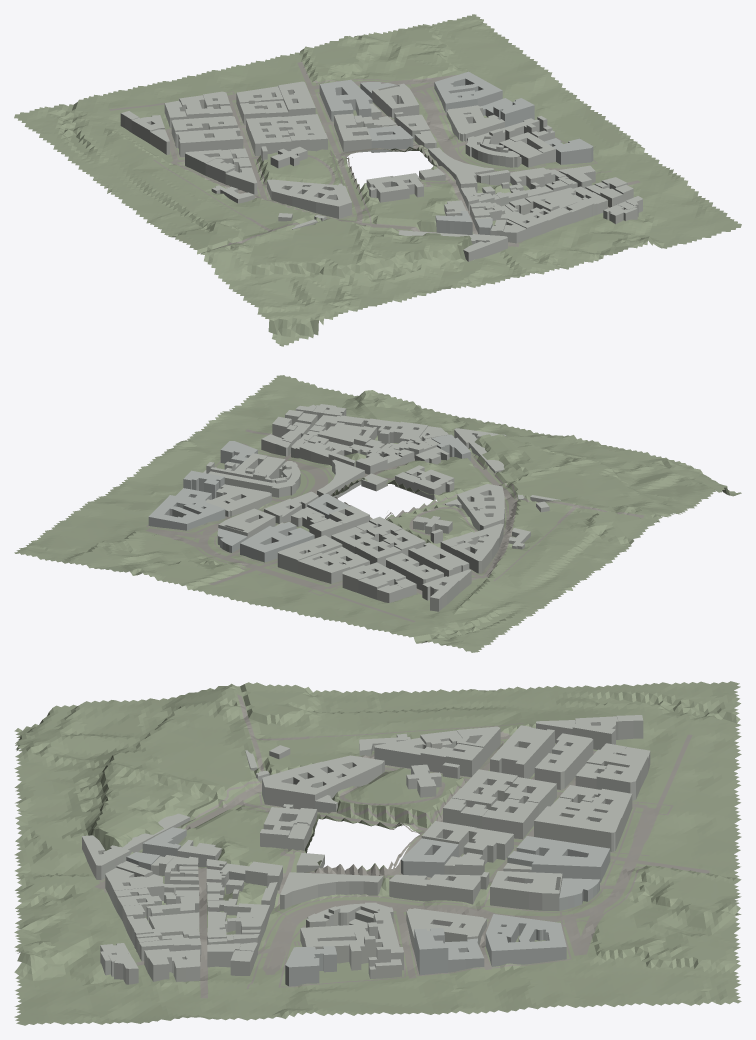
The picture shows the model from 3 angles, top to bottom: view 1: azimuth 30°, elevation 25°; view 2: azimuth 150°, elevation 25°; view 3: azimuth 270°, elevation 25°; orthographic projection. The views are drawn at different scales.
Visible parts, largest first — view 1: villa-maraini-context-lazio-terrain, villa-maraini-context-osm-roads, villa-maraini-context-osm-334699412, villa-maraini-context-osm-relation-4493645, villa-maraini-context-osm-relation-4775710, villa-maraini-context-osm-relation-1442860, villa-maraini-context-osm-relation-4772674, villa-maraini-context-osm-relation-4775707, villa-maraini-context-osm-relation-2713700, villa-maraini-context-osm-365885041, villa-maraini-context-osm-relation-4775709, villa-maraini-context-osm-relation-4775760 (+18 smaller); view 2: villa-maraini-context-lazio-terrain, villa-maraini-context-osm-roads, villa-maraini-context-osm-334699412, villa-maraini-context-osm-relation-4493645, villa-maraini-context-osm-relation-4775710, villa-maraini-context-osm-relation-4772674, villa-maraini-context-osm-relation-1442860, villa-maraini-context-osm-relation-4778420, villa-maraini-context-osm-relation-4778421, villa-maraini-context-osm-relation-4778362, villa-maraini-context-osm-relation-2713700, villa-maraini-context-osm-relation-4775707 (+22 smaller); view 3: villa-maraini-context-lazio-terrain, villa-maraini-context-osm-roads, villa-maraini-context-osm-334699412, villa-maraini-context-osm-relation-4493645, villa-maraini-context-osm-relation-4775710, villa-maraini-context-osm-relation-4778420, villa-maraini-context-osm-relation-4775707, villa-maraini-context-osm-337591240, villa-maraini-context-osm-relation-1442860, villa-maraini-context-osm-relation-4778362, villa-maraini-context-osm-relation-4772674, villa-maraini-context-osm-365885041 (+38 smaller).
Boxes of the visible parts, <box> form: villa-maraini-context-lazio-terrain: <box>14,14,741,346</box>; villa-maraini-context-osm-roads: <box>109,61,640,249</box>; villa-maraini-context-osm-334699412: <box>465,116,554,167</box>; villa-maraini-context-osm-relation-4493645: <box>434,71,502,112</box>; villa-maraini-context-osm-relation-4775710: <box>319,79,372,121</box>; villa-maraini-context-osm-relation-1442860: <box>175,127,243,156</box>; villa-maraini-context-osm-relation-4772674: <box>446,105,504,141</box>; villa-maraini-context-osm-relation-4775707: <box>372,83,419,118</box>; villa-maraini-context-osm-relation-2713700: <box>366,176,423,202</box>; villa-maraini-context-osm-365885041: <box>398,230,507,261</box>; villa-maraini-context-osm-relation-4775709: <box>367,126,413,152</box>; villa-maraini-context-osm-relation-4775760: <box>316,184,351,218</box>; villa-maraini-context-lazio-terrain: <box>14,375,741,652</box>; villa-maraini-context-osm-roads: <box>145,429,644,622</box>; villa-maraini-context-osm-334699412: <box>203,461,300,497</box>; villa-maraini-context-osm-relation-4493645: <box>148,495,225,530</box>; villa-maraini-context-osm-relation-4775710: <box>240,522,314,562</box>; villa-maraini-context-osm-relation-4772674: <box>205,484,271,516</box>; villa-maraini-context-osm-relation-1442860: <box>408,542,469,576</box>; villa-maraini-context-osm-relation-4778420: <box>277,535,342,573</box>; villa-maraini-context-osm-relation-4778421: <box>297,553,349,583</box>; villa-maraini-context-osm-relation-4778362: <box>386,553,443,590</box>; villa-maraini-context-osm-relation-2713700: <box>405,465,454,499</box>; villa-maraini-context-osm-relation-4775707: <box>218,508,275,538</box>; villa-maraini-context-lazio-terrain: <box>14,681,741,1025</box>; villa-maraini-context-osm-roads: <box>94,694,709,998</box>; villa-maraini-context-osm-334699412: <box>306,902,403,978</box>; villa-maraini-context-osm-relation-4493645: <box>485,914,566,966</box>; villa-maraini-context-osm-relation-4775710: <box>507,836,610,882</box>; villa-maraini-context-osm-relation-4778420: <box>534,806,621,851</box>; villa-maraini-context-osm-relation-4775707: <box>490,871,562,910</box>; villa-maraini-context-osm-337591240: <box>280,872,383,909</box>; villa-maraini-context-osm-relation-1442860: <box>490,725,554,778</box>; villa-maraini-context-osm-relation-4778362: <box>534,733,593,789</box>; villa-maraini-context-osm-relation-4772674: <box>406,908,486,951</box>; villa-maraini-context-osm-365885041: <box>82,813,190,879</box>.
Bounding box in the file's own units: 607 × 57.4 × 607.
